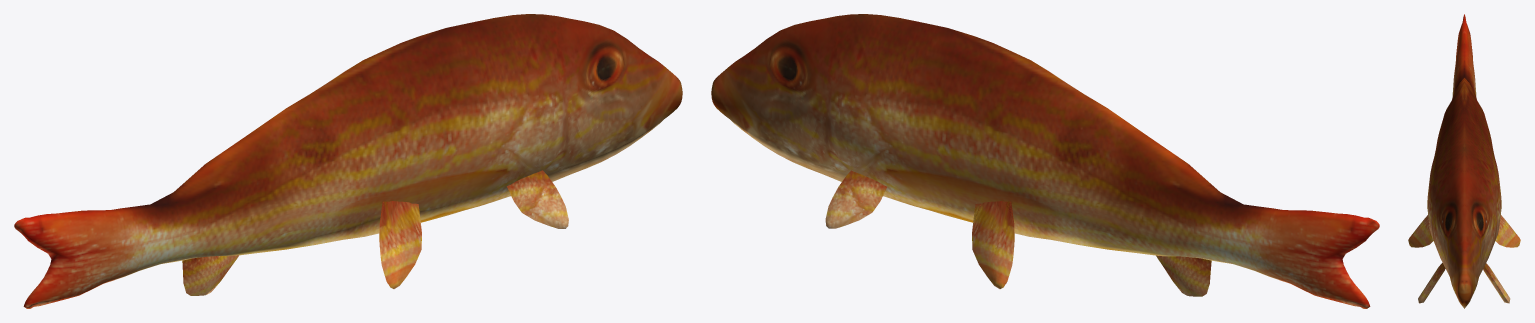
The model's file is Fish 6.fbx.
3 renders of one model, left to right at view 1: azimuth 30°, elevation 25°; view 2: azimuth 150°, elevation 25°; view 3: azimuth 270°, elevation 25°, orthographic. The views are drawn at different scales.
Visible parts, largest first — view 1: Fish_6; view 2: Fish_6; view 3: Fish_6.
Boxes of the visible parts, left/top/right/bottom form: Fish_6: left=14, top=14, right=682, bottom=308; Fish_6: left=711, top=14, right=1379, bottom=308; Fish_6: left=1408, top=14, right=1520, bottom=308.
Bounding box in the file's own units: 9.63 × 2.96 × 1.78.
1 material, 1 textured.
